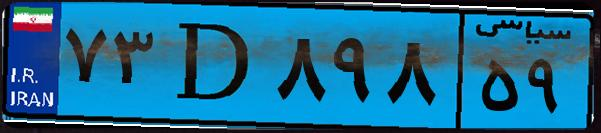3: (110, 28, 158, 98)
5: (475, 38, 525, 113)
7: (57, 26, 110, 100)
8: (270, 28, 330, 110), (385, 28, 445, 110)
9: (330, 28, 385, 110), (525, 38, 570, 115)
D: (158, 12, 270, 120)
